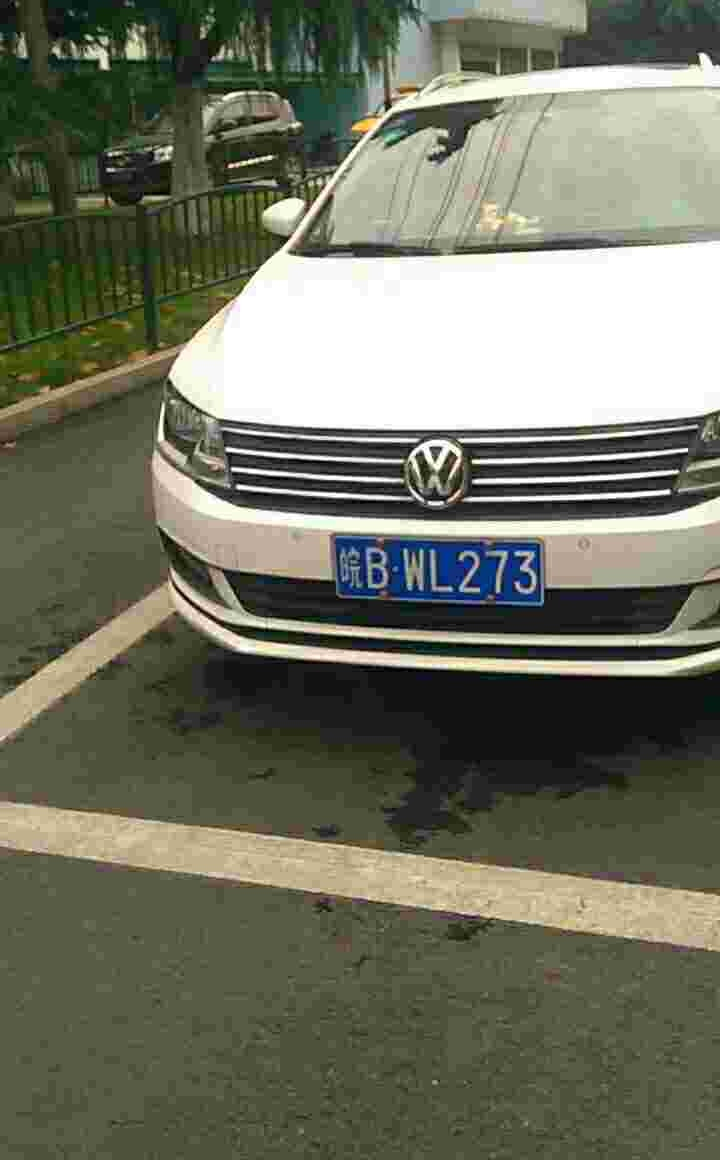license_plate: (329, 540, 551, 608)
